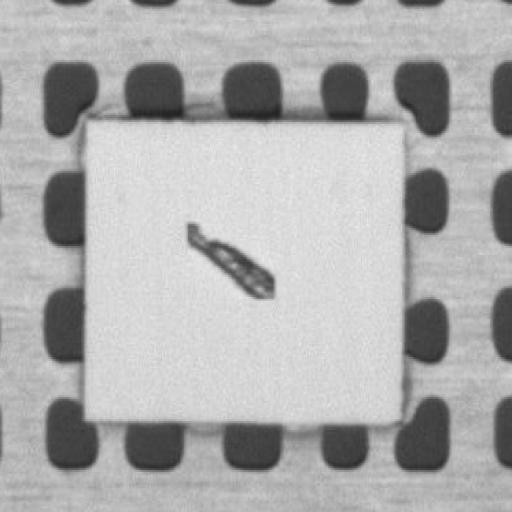DIE_INK: (183, 216, 277, 300)
